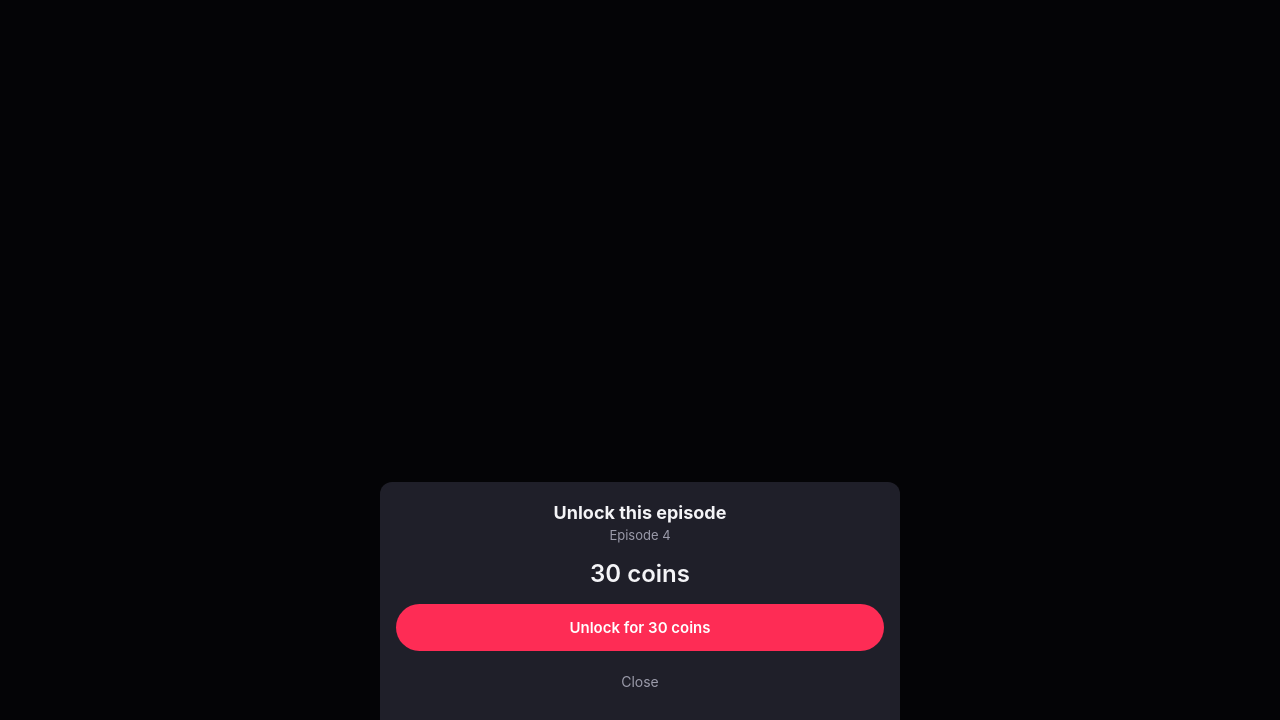
the coin channel › hands the trade order to the platform and reports the grant the server confirmed
Click the button with test id "unlock-confirm".
click(640, 628)  # box [396,604,884,651]
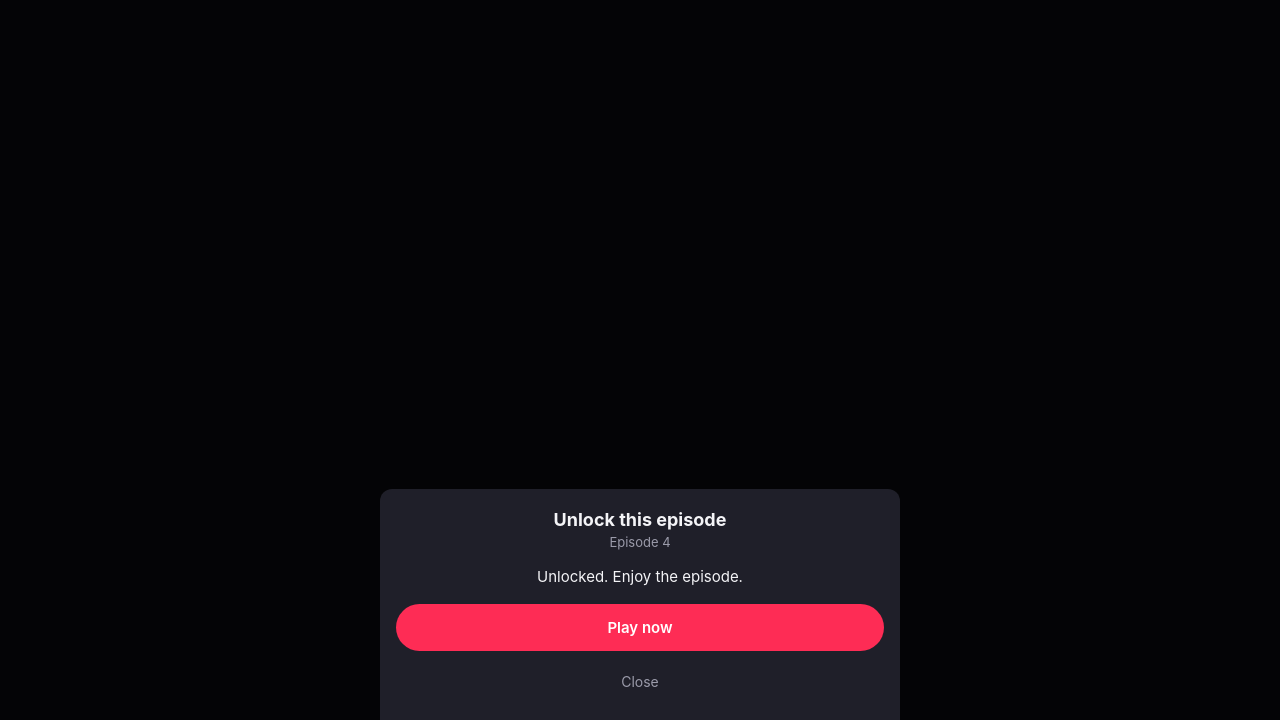
Check: the text "Unlocked. Enjoy the episode." is shown, box [537,567,743,586]
